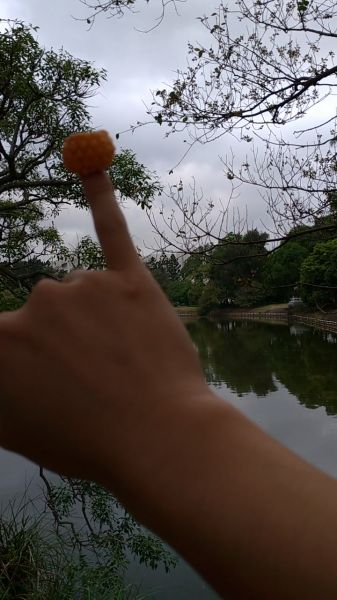eggs: (59, 130, 115, 175)
